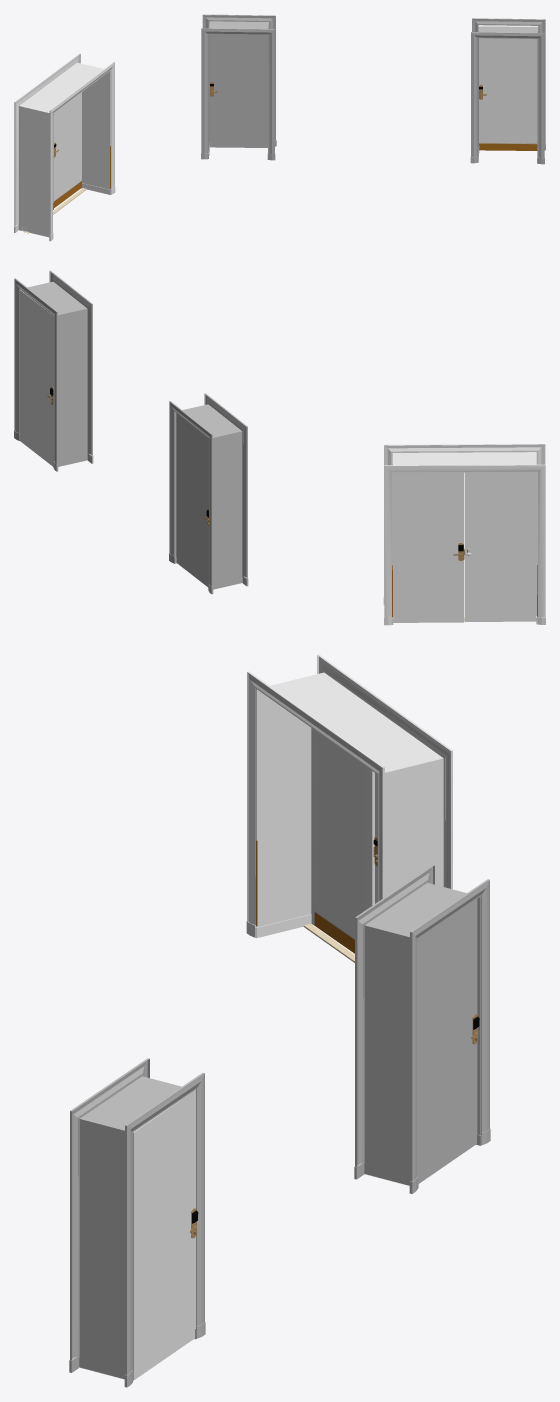
Rendered from Sceene1_addon.fbx.
3 renders of one model, top to bottom at view 1: azimuth 30°, elevation 25°; view 2: azimuth 150°, elevation 25°; view 3: azimuth 270°, elevation 25°, orthographic. The views are drawn at different scales.
Visible parts, largest first — view 1: polySurface1685, polySurface93, polySurface1687, polySurface1696, polySurface1683; view 2: polySurface93, polySurface1683, polySurface1682, polySurface1696, polySurface1685, polySurface1687; view 3: polySurface93, polySurface1685, polySurface1696, polySurface1687, polySurface1682.
Part boxes in pixels (x1=…): polySurface1685: x1=14, y1=53, x2=115, y2=241; polySurface93: x1=201, y1=14, x2=276, y2=160; polySurface1687: x1=478, y1=25, x2=537, y2=150; polySurface1696: x1=470, y1=18, x2=545, y2=164; polySurface1683: x1=54, y1=92, x2=81, y2=207; polySurface93: x1=169, y1=393, x2=248, y2=594; polySurface1683: x1=393, y1=472, x2=464, y2=622; polySurface1682: x1=464, y1=472, x2=536, y2=621; polySurface1696: x1=14, y1=270, x2=93, y2=471; polySurface1685: x1=383, y1=444, x2=545, y2=625; polySurface1687: x1=19, y1=289, x2=53, y2=466; polySurface93: x1=354, y1=865, x2=490, y2=1193; polySurface1685: x1=246, y1=654, x2=452, y2=962; polySurface1696: x1=69, y1=1058, x2=205, y2=1387; polySurface1687: x1=132, y1=1090, x2=198, y2=1380; polySurface1682: x1=314, y1=730, x2=374, y2=953.
Size of the model in its own units: 893 by 231 by 337.
